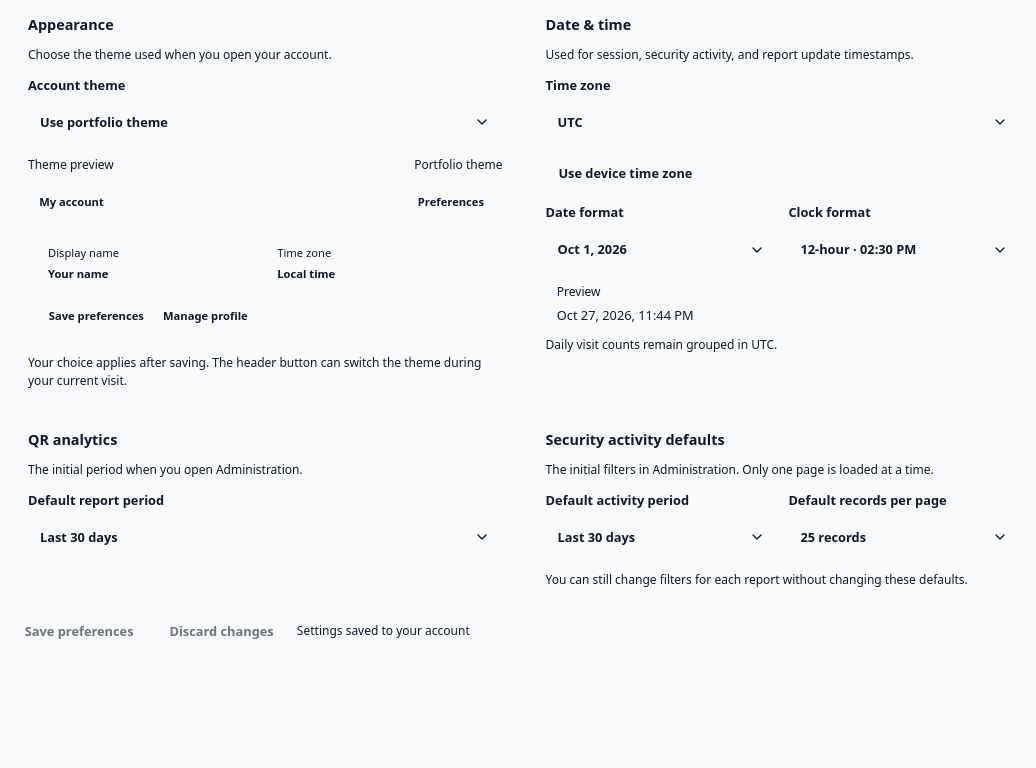
it: previews and saves real account preferences, and can discard unsaved edits
Expected: the button "Save preferences" is disabled, [12,613,146,649]
Select "2026-10-01 (year-month-day)" in the dropdown labelled "Date format" at [661, 250], box [546,228,777,272]
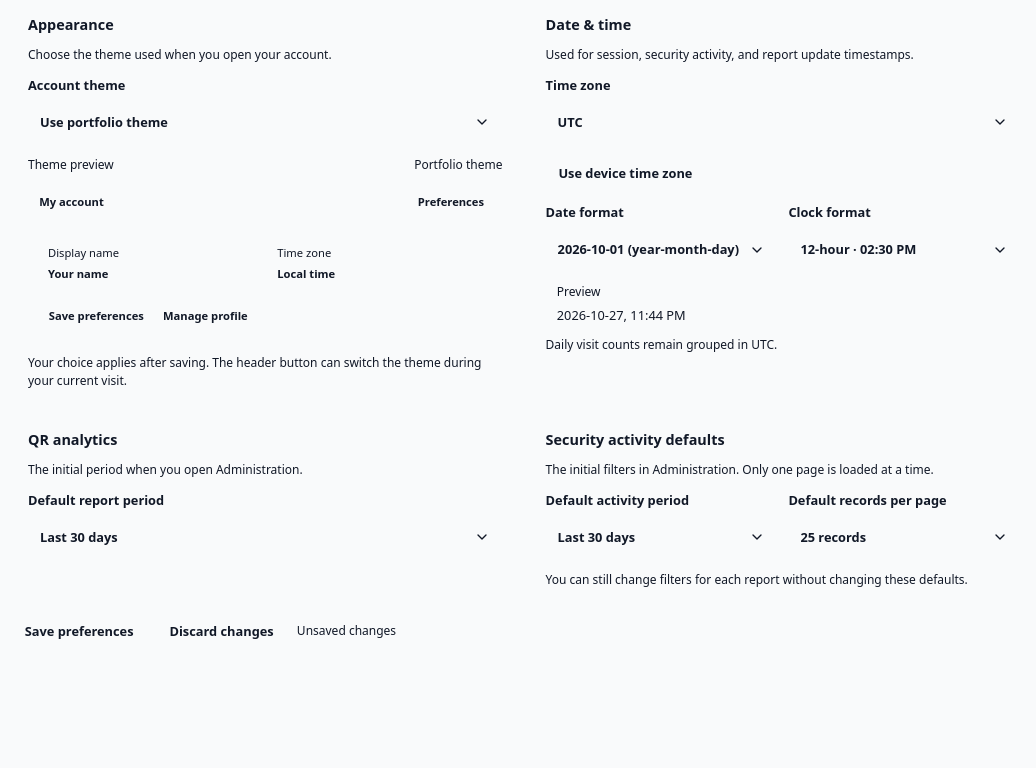
Select "24-hour · 14:30" in the dropdown labelled "Clock format" at [904, 250], box [788,228,1020,272]
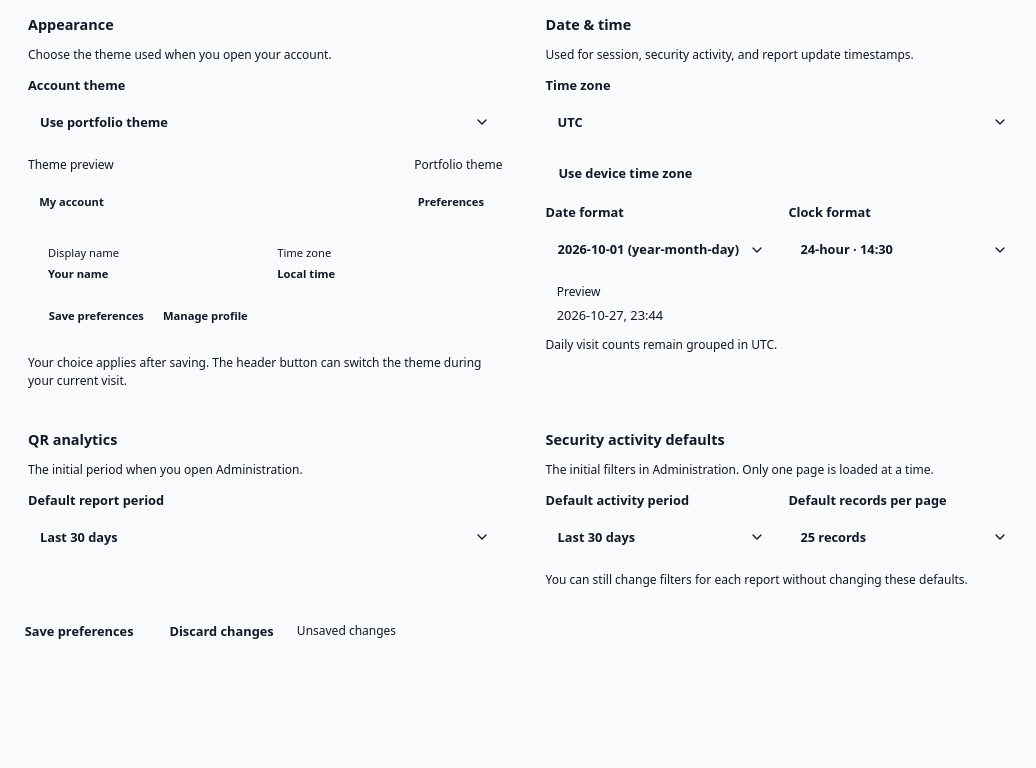
Now the text named "Date and time preview" reads "2026-10-27, 23:44", box [557,306,663,324]
Click the button "Discard changes" at [222, 631], box [157,613,286,649]
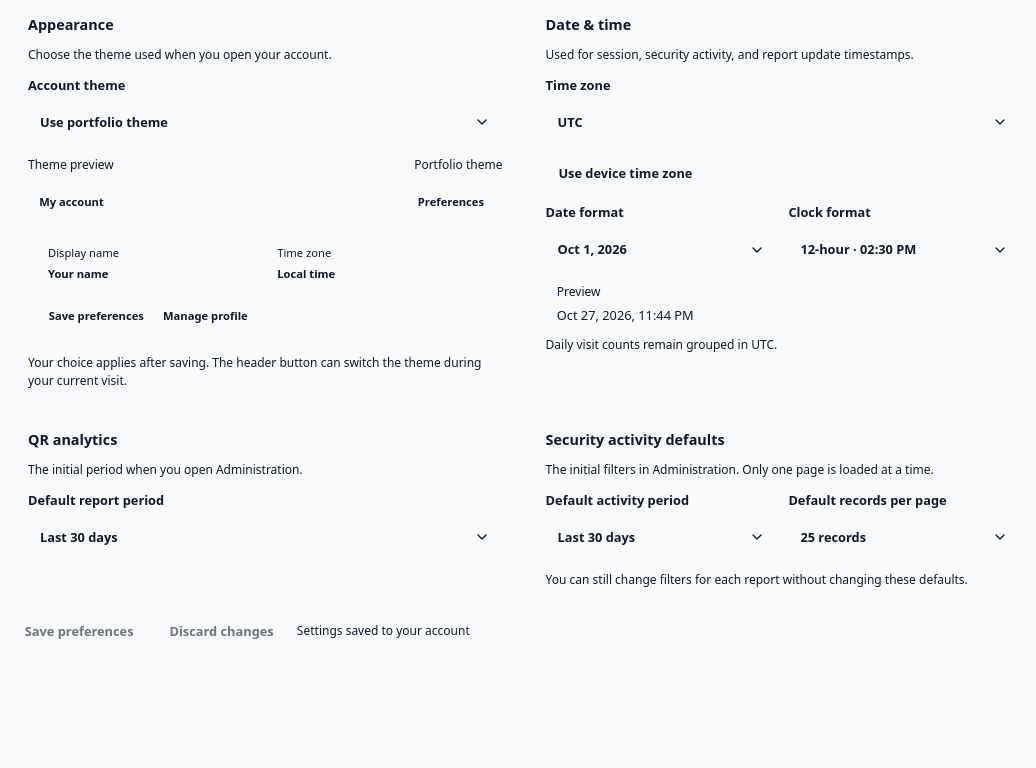
Now the button "Save preferences" is disabled, box [12,613,146,649]
Select "Asia/Tokyo" in the dropdown labelled "Time zone" at [783, 122], box [546,100,1020,144]
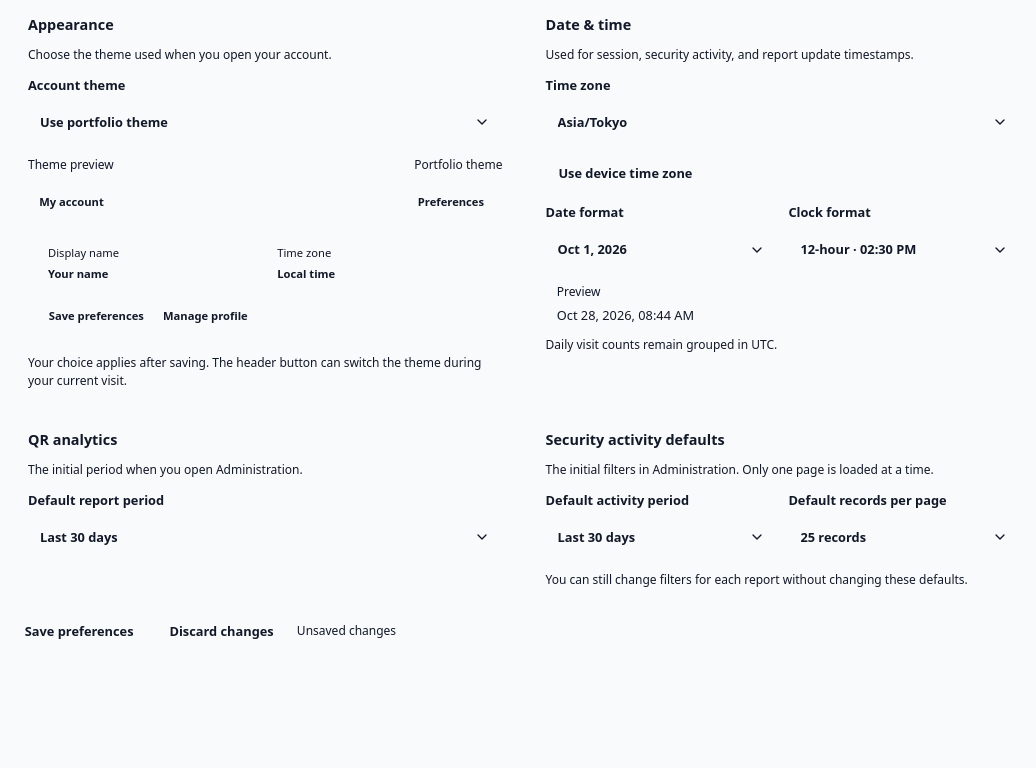
Select "Last 90 days" in the dropdown labelled "Default report period" at [265, 537], box [28,515,502,559]
Select "50 records" in the dropdown labelled "Default records per page" at [904, 537], box [788,515,1020,559]
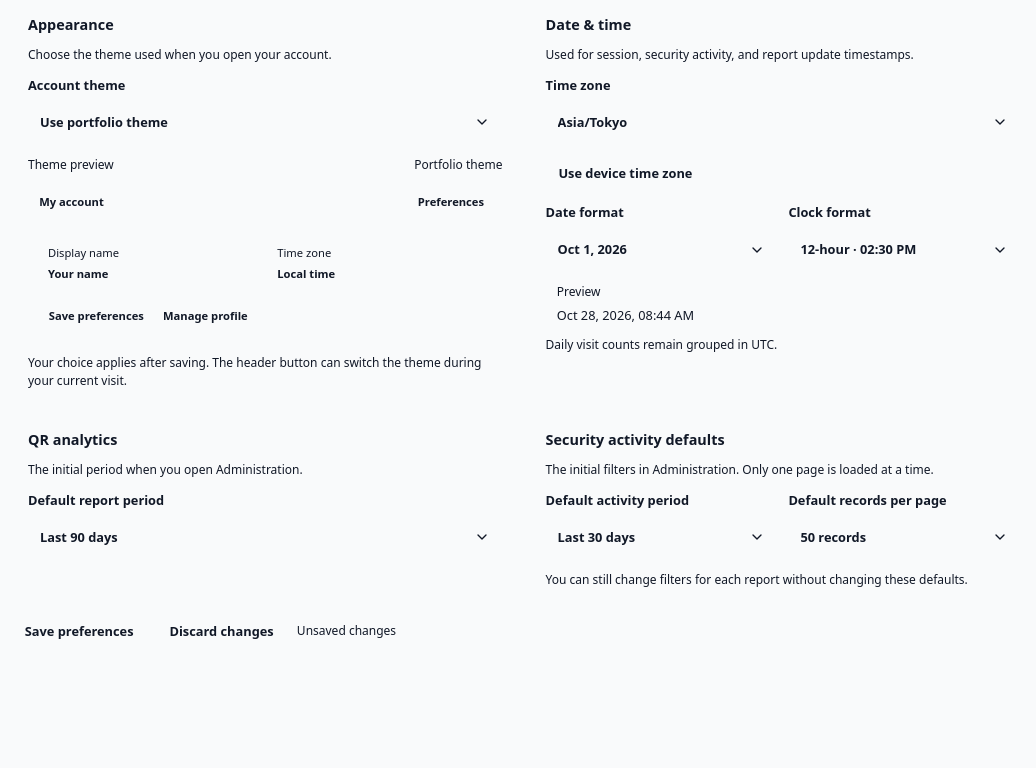
Click the button "Save preferences" at [79, 631], box [12,613,146,649]
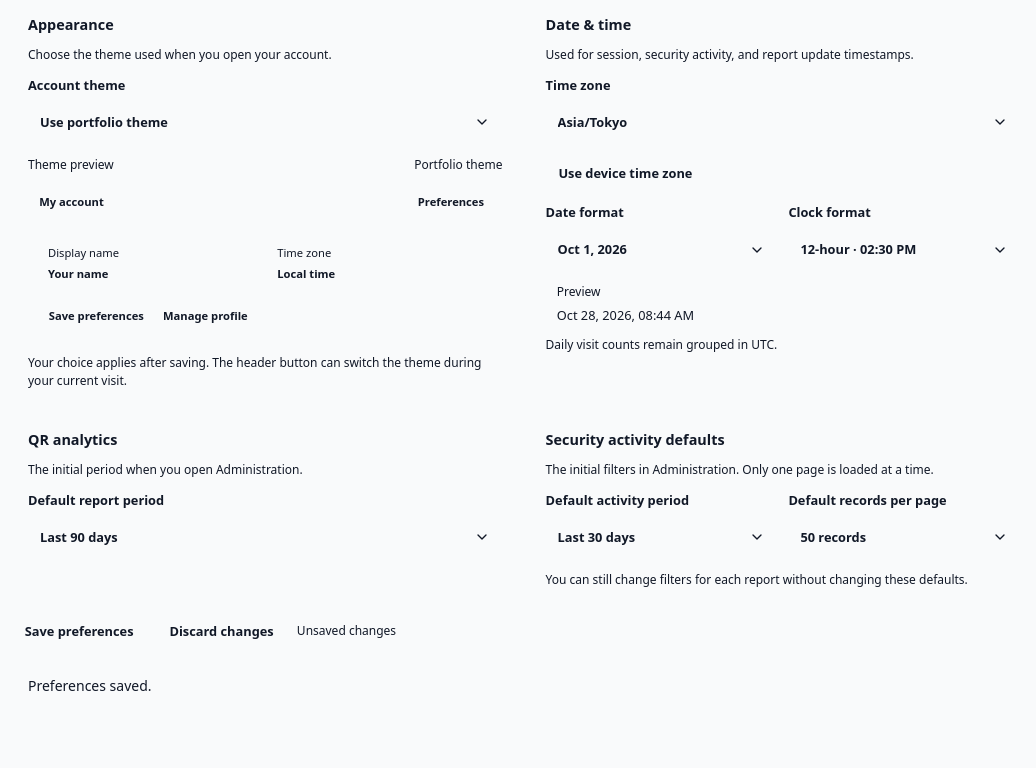
Now the text "Preferences saved." is shown, box [28,676,152,695]
